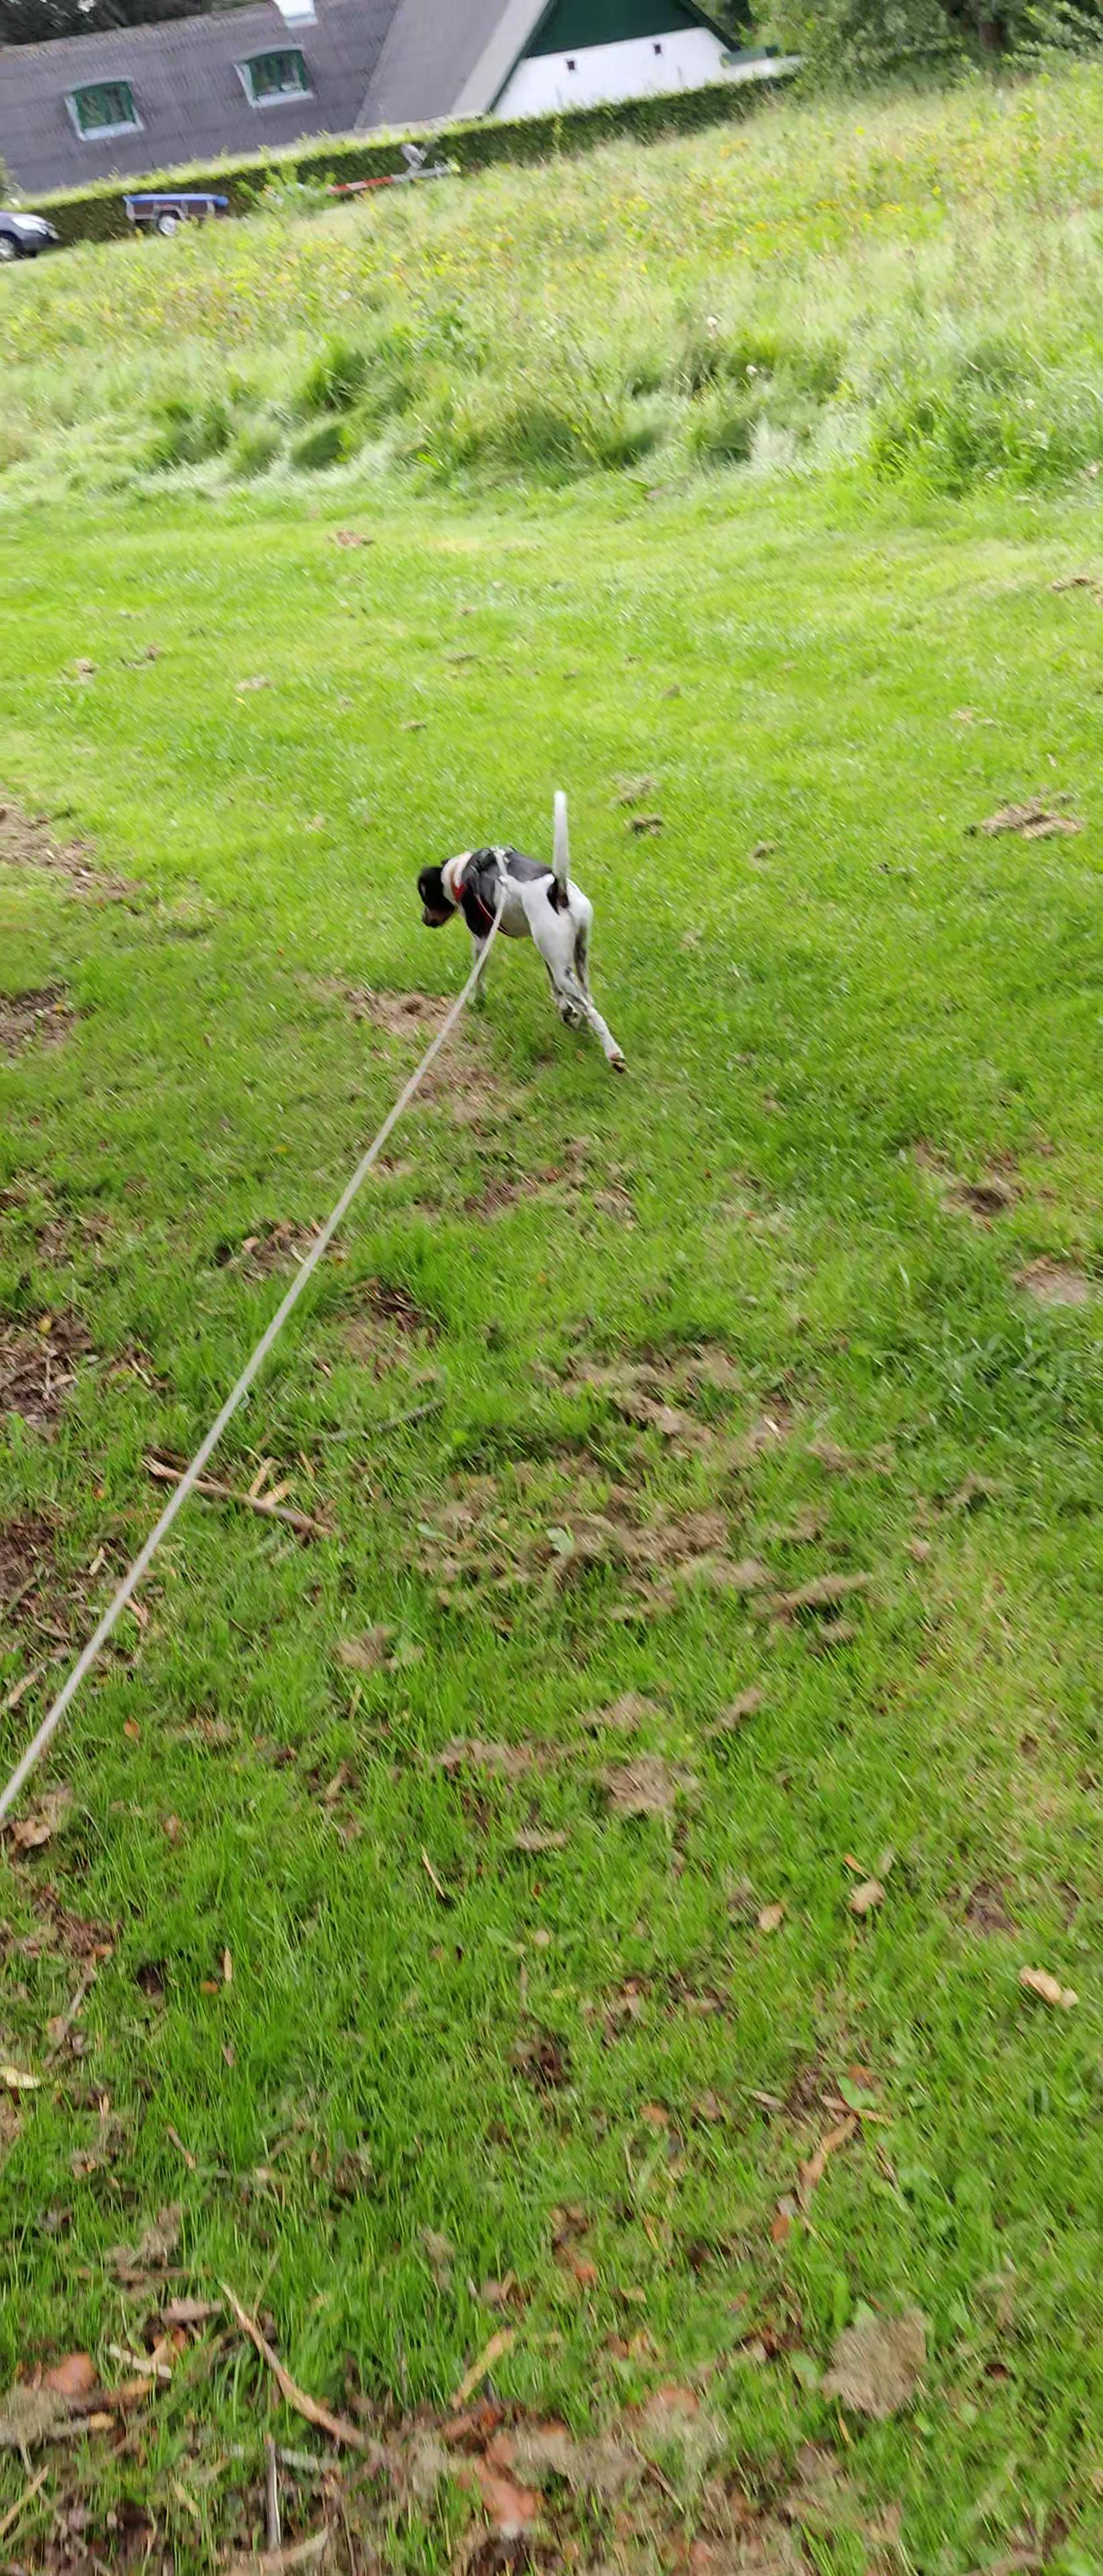Dog: (411, 784, 628, 1076)
